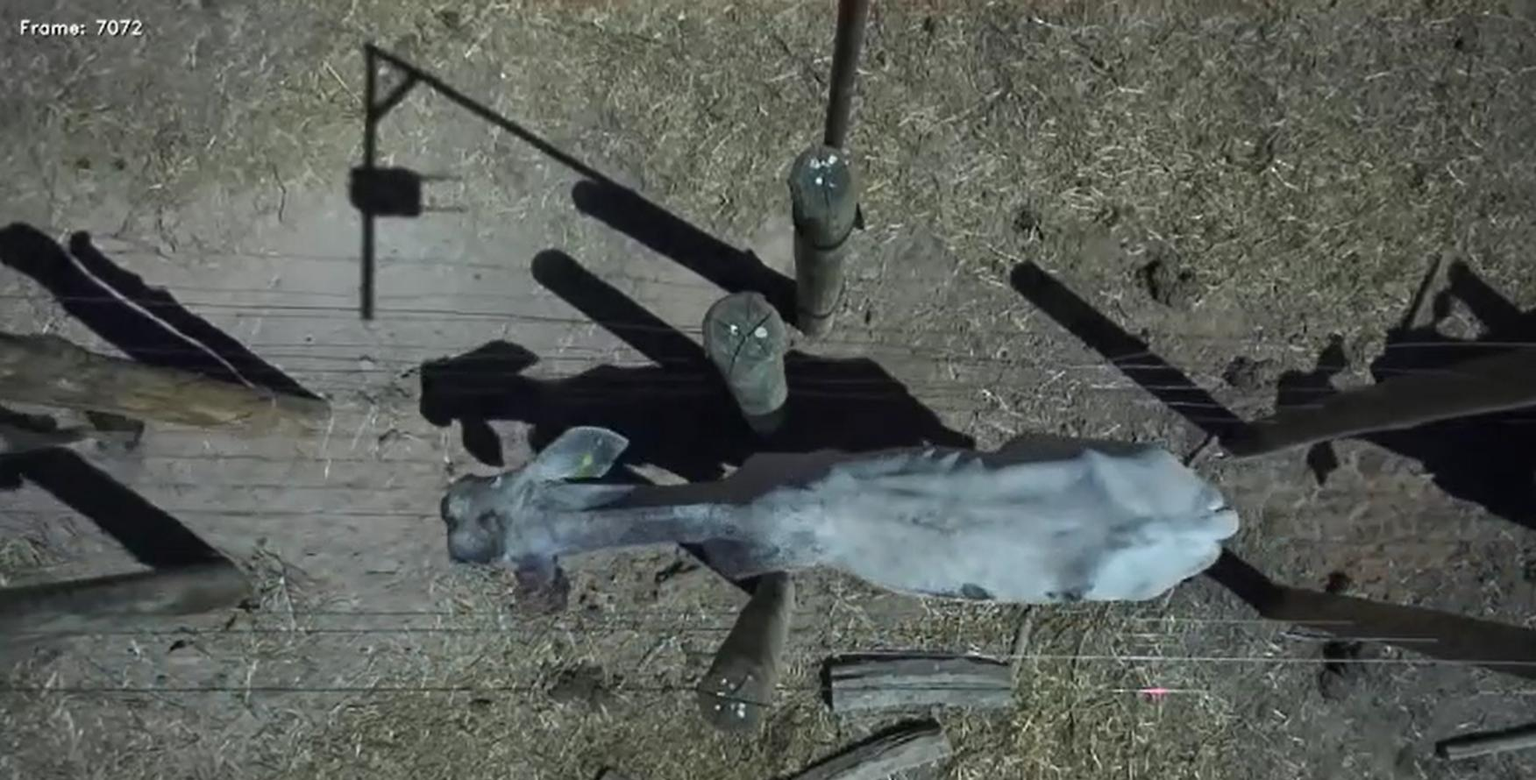cattle: (430, 412, 1250, 612)
